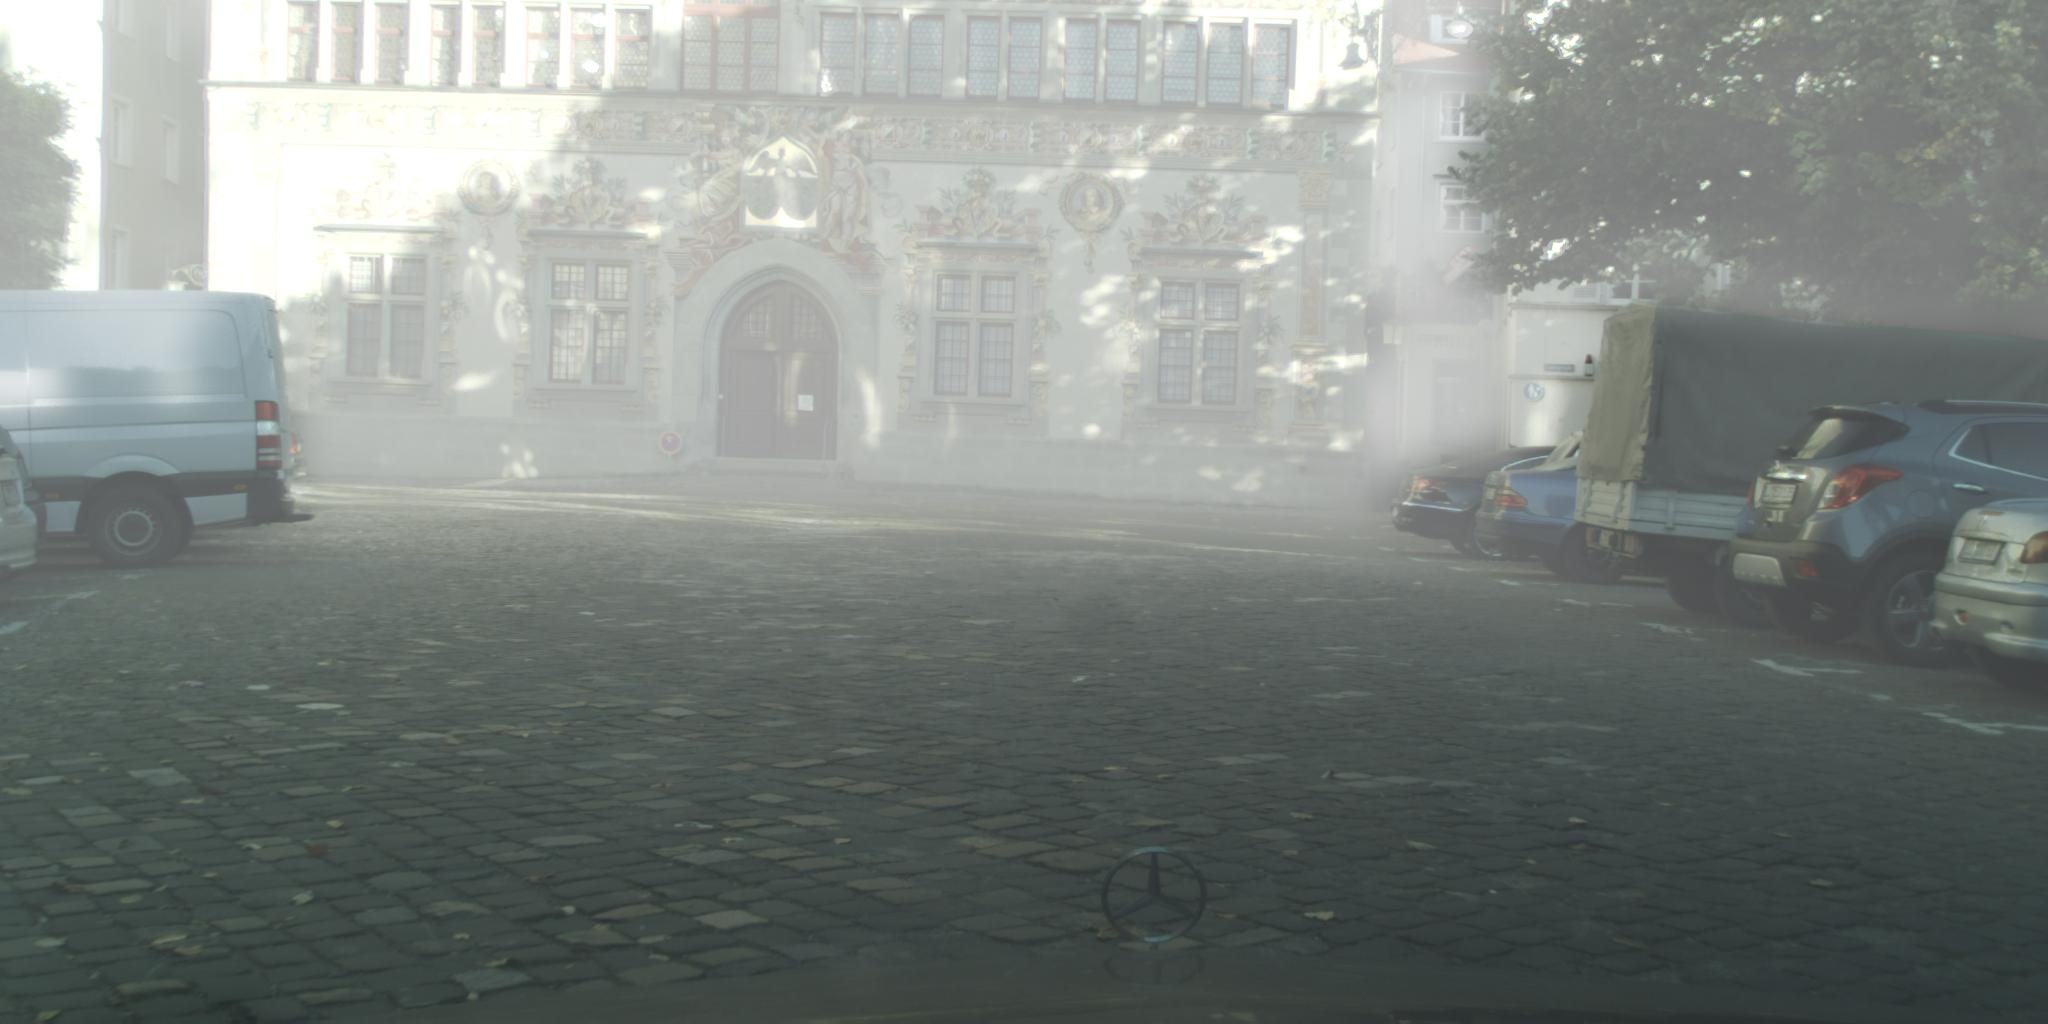car: (1, 290, 316, 572), (1732, 398, 2048, 667), (1925, 498, 2048, 688), (1388, 447, 1558, 566), (1476, 456, 1627, 586), (1, 422, 50, 572), (1539, 432, 1590, 468)
truck: (1574, 300, 2048, 611)
